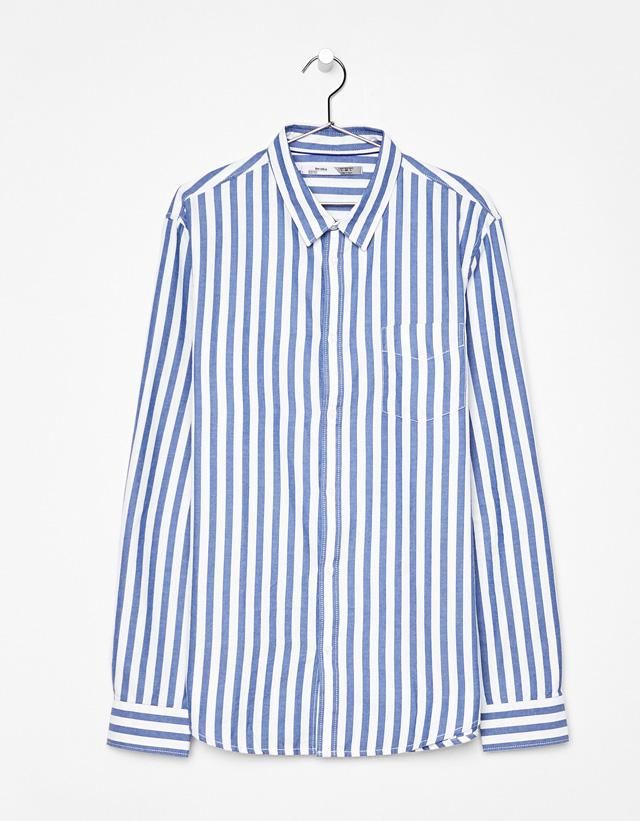teeshirt: (107, 125, 569, 757)
